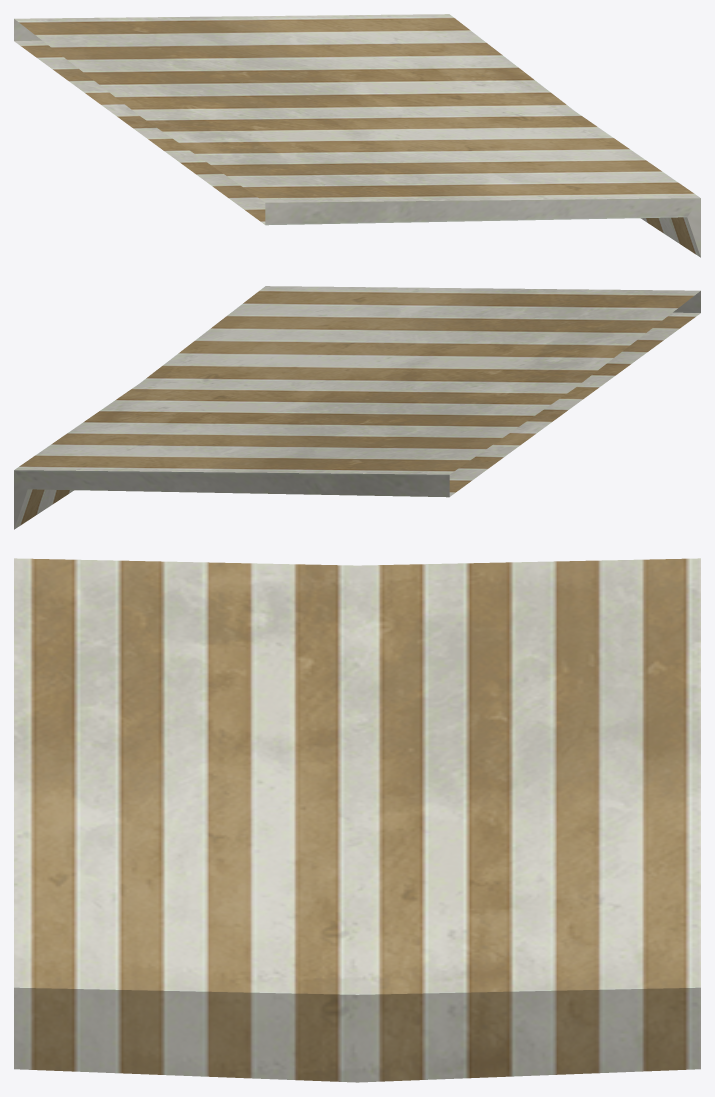
Rendered from Prop_Canopy_01.fbx.
3 renders of one model, top to bottom at view 1: azimuth 30°, elevation 25°; view 2: azimuth 150°, elevation 25°; view 3: azimuth 270°, elevation 25°, orthographic. The views are drawn at different scales.
Parts seen in each view (by area): view 1: Prop_Canopy_01; view 2: Prop_Canopy_01; view 3: Prop_Canopy_01.
Boxes of the visible parts, x1,y1,x2,y2 form: Prop_Canopy_01: [14, 14, 700, 257]; Prop_Canopy_01: [14, 286, 700, 529]; Prop_Canopy_01: [14, 558, 700, 1082].
Size of the model in its own units: 250 by 93.88 by 250.
